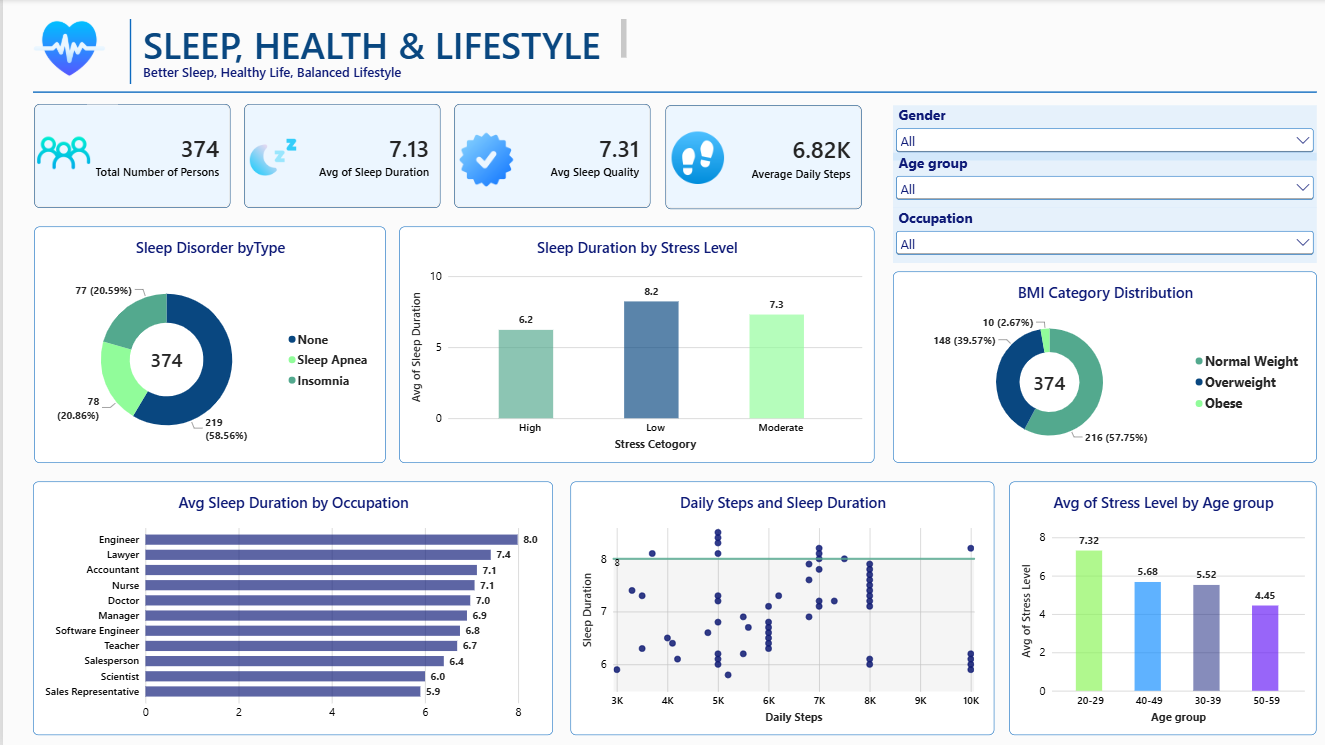

What the dashboard file says about the page in this screenshot:
{"tool":"powerbi","page":{"name":"Dashboard","canvas":[1920,1080],"ordinal":0},"visuals":[{"type":"cardVisual","fields":{"Data":["Table.Total Number of Persons"]},"box":[45.2,152,284.1,150.2],"z":0},{"type":"cardVisual","fields":{"Data":["Table.Avg of Sleep Duration"]},"box":[349.3,152,284.1,150.2],"z":1000},{"type":"cardVisual","fields":{"Data":["Table.Avg Sleep Quality"]},"box":[653.3,152,284.1,150.2],"z":2000},{"type":"cardVisual","fields":{"Data":["Avg(Sleep_health_and_lifestyle_dataset.Daily Steps)"]},"box":[959.1,153.8,284.1,150.2],"z":3000},{"type":"image","box":[25.3,19.9,141.2,103.2],"z":4000},{"type":"shape","box":[166.5,29,36.2,94.1],"z":5000},{"type":"textbox","box":[202.7,29,700.3,63.3],"z":6000},{"type":"textbox","box":[202.7,92.3,401.7,47.1],"z":7000},{"type":"shape","box":[43.4,115.8,1858.5,38],"z":8000},{"type":"image","box":[43.4,182.8,88.7,79.6],"z":9000},{"type":"image","box":[349.3,195.4,83.2,67],"z":10000},{"type":"image","box":[653.3,191.8,92.3,81.4],"z":11000},{"type":"image","box":[959.1,191.8,94.1,76],"z":12000},{"type":"donutChart","title":"Sleep Disorder byType","fields":{"Category":["Sleep_health_and_lifestyle_dataset.Sleep Disorder"],"Y":["CountNonNull(Sleep_health_and_lifestyle_dataset.Person ID)"]},"box":[45.2,329.4,508.5,342],"z":13000},{"type":"clusteredColumnChart","title":"Sleep Duration by Stress Level","fields":{"Category":["Sleep_health_and_lifestyle_dataset.Stress Cetogory"],"Y":["Avg(Sleep_health_and_lifestyle_dataset.Sleep Duration)"]},"box":[573.7,329.4,687.7,342],"z":14000},{"type":"donutChart","title":"BMI Category Distribution","fields":{"Category":["Sleep_health_and_lifestyle_dataset.Body Mass Index Category"],"Y":["CountNonNull(Sleep_health_and_lifestyle_dataset.Person ID)"]},"box":[1288.5,394.5,613.5,276.9],"z":15000},{"type":"barChart","title":"Avg Sleep Duration by Occupation","fields":{"Category":["Sleep_health_and_lifestyle_dataset.Occupation"],"Y":["Avg(Sleep_health_and_lifestyle_dataset.Sleep Duration)"]},"box":[43.4,698.5,752.8,367.4],"z":16000},{"type":"scatterChart","fields":{"X":["Sleep_health_and_lifestyle_dataset.Daily Steps"],"Y":["Sleep_health_and_lifestyle_dataset.Sleep Duration"]},"box":[821.6,698.5,613.5,367.4],"z":17000},{"type":"clusteredColumnChart","fields":{"Category":["Sleep_health_and_lifestyle_dataset.Age group"],"Y":["Avg(Sleep_health_and_lifestyle_dataset.Stress Level)"]},"box":[1456.8,698.5,445.2,367.4],"z":18000},{"type":"slicer","fields":{"Values":["Sleep_health_and_lifestyle_dataset.Gender"]},"box":[1288.5,153.8,613.5,79.6],"z":19000},{"type":"slicer","fields":{"Values":["Sleep_health_and_lifestyle_dataset.Age group"]},"box":[1288.5,222.6,613.5,79.6],"z":20000},{"type":"slicer","fields":{"Values":["Sleep_health_and_lifestyle_dataset.Occupation"]},"box":[1288.5,302.2,613.5,79.6],"z":21000}]}

Visuals, with their boxes in screenshot pixels (x1, y1, x2, y2), scaled from the page's 1920x1080 canvas onto the 1325x745 screenshot:
cardVisual - Table.Total Number of Persons: [31,105,227,208]
cardVisual - Table.Avg of Sleep Duration: [241,105,437,208]
cardVisual - Table.Avg Sleep Quality: [451,105,647,208]
cardVisual - Avg(Sleep_health_and_lifestyle_dataset.Daily Steps): [662,106,858,210]
image: [17,14,115,85]
shape: [115,20,140,85]
textbox: [140,20,623,64]
textbox: [140,64,417,96]
shape: [30,80,1313,106]
image: [30,126,91,181]
image: [241,135,298,181]
image: [451,132,515,188]
image: [662,132,727,185]
"Sleep Disorder byType" donutChart: [31,227,382,463]
"Sleep Duration by Stress Level" clusteredColumnChart: [396,227,870,463]
"BMI Category Distribution" donutChart: [889,272,1313,463]
"Avg Sleep Duration by Occupation" barChart: [30,482,549,735]
scatterChart - Sleep_health_and_lifestyle_dataset.Daily Steps x Sleep_health_and_lifestyle_dataset.Sleep Duration: [567,482,990,735]
clusteredColumnChart - Sleep_health_and_lifestyle_dataset.Age group x Avg(Sleep_health_and_lifestyle_dataset.Stress Level): [1005,482,1313,735]
slicer - Sleep_health_and_lifestyle_dataset.Gender: [889,106,1313,161]
slicer - Sleep_health_and_lifestyle_dataset.Age group: [889,154,1313,208]
slicer - Sleep_health_and_lifestyle_dataset.Occupation: [889,208,1313,263]
